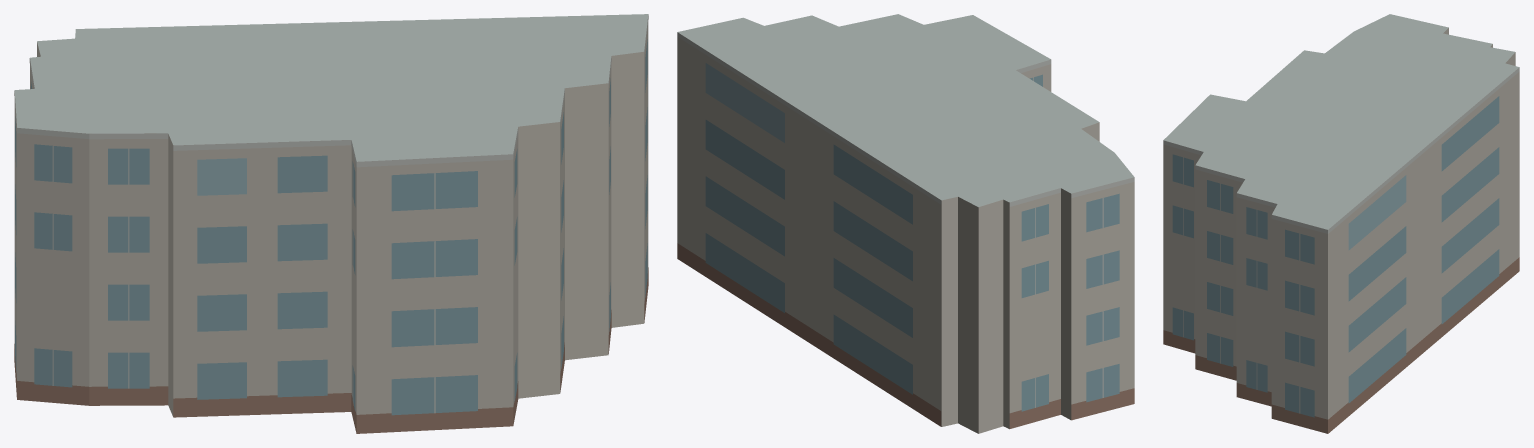
Rendered from survey-upis-32526030.glb.
The picture shows the model from 3 angles, left to right: view 1: azimuth 30°, elevation 25°; view 2: azimuth 150°, elevation 25°; view 3: azimuth 270°, elevation 25°; orthographic projection. The views are drawn at different scales.
Parts seen in each view (by area): view 1: survey-upis-32526030.tmp; view 2: survey-upis-32526030.tmp; view 3: survey-upis-32526030.tmp.
Part boxes in pixels (bbox=[...]): survey-upis-32526030.tmp: bbox=[14, 14, 648, 433]; survey-upis-32526030.tmp: bbox=[677, 14, 1134, 433]; survey-upis-32526030.tmp: bbox=[1163, 14, 1519, 433].
Bounding box in the file's own units: 27.47 × 12.1 × 19.17.
